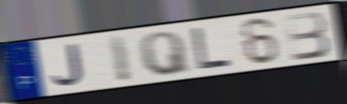6: (240, 16, 281, 67)
B: (283, 10, 333, 63)
I: (108, 33, 134, 84)
J: (50, 41, 86, 87)
L: (191, 25, 234, 72)
Q: (138, 30, 193, 78)
